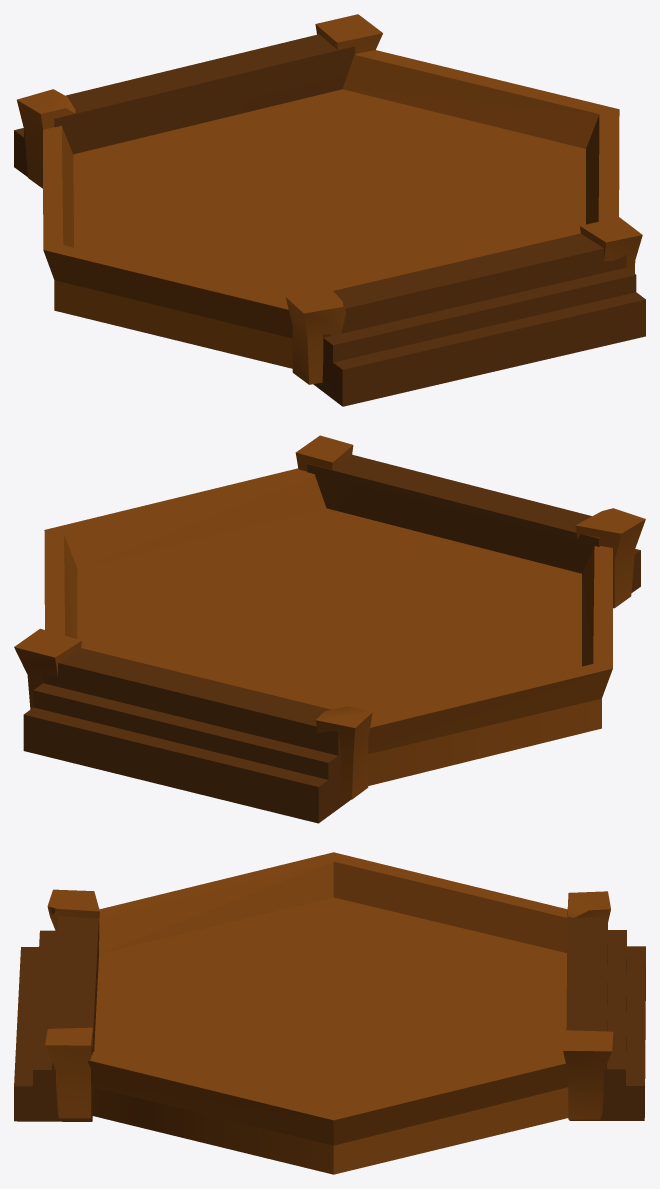
Rendered from pool.FBX.
3 views of the same model, one above another, from view 1: azimuth 30°, elevation 25°; view 2: azimuth 150°, elevation 25°; view 3: azimuth 270°, elevation 25° (orthographic). The views are drawn at different scales.
Parts seen in each view (by area): view 1: Pool; view 2: Pool; view 3: Pool.
Boxes of the visible parts, x1=… form: Pool: x1=14, y1=14, x2=645, y2=406; Pool: x1=14, y1=435, x2=645, y2=823; Pool: x1=14, y1=852, x2=645, y2=1174.
Size of the model in its own units: 1910 by 273 by 1902.
